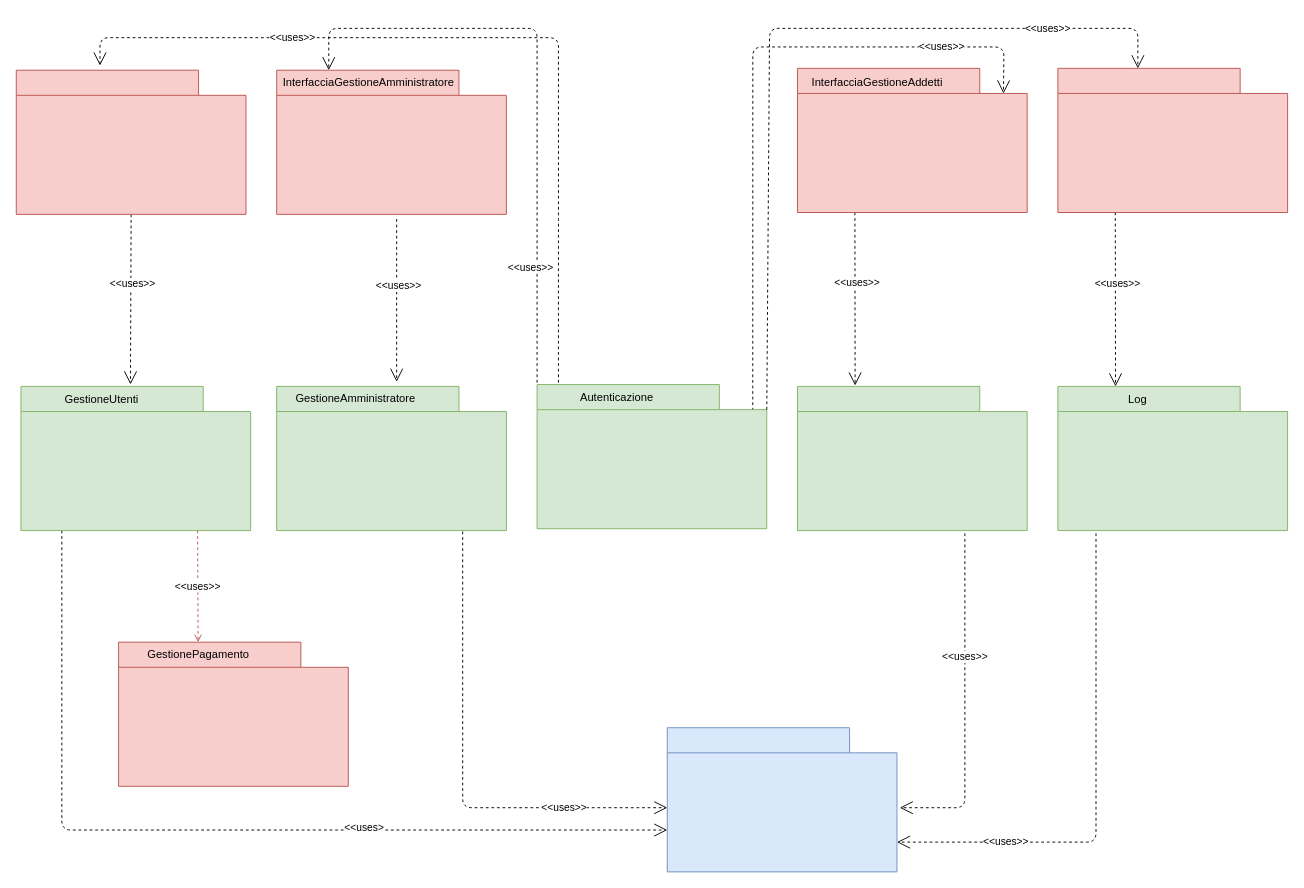
Some shapes in this 1304 by 888 pixel diagram are drawn without their labels. Here are the shapes that lost their labels. From the top down, the box of each, then its label:
(15, 69, 246, 214): InterfacciaGestioneUtenti
(1057, 67, 1288, 213): InterfacciaLog
(797, 385, 1027, 531): GestioneAddetti
(666, 727, 897, 872): Dominio
